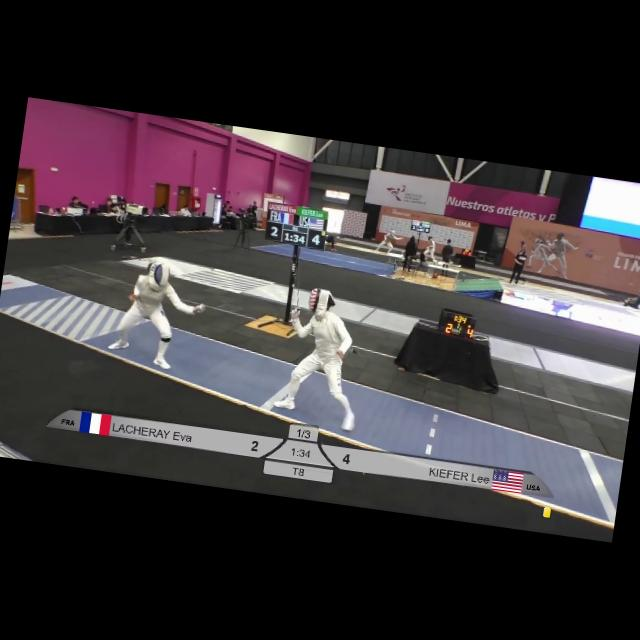blade: (286, 242, 311, 313)
